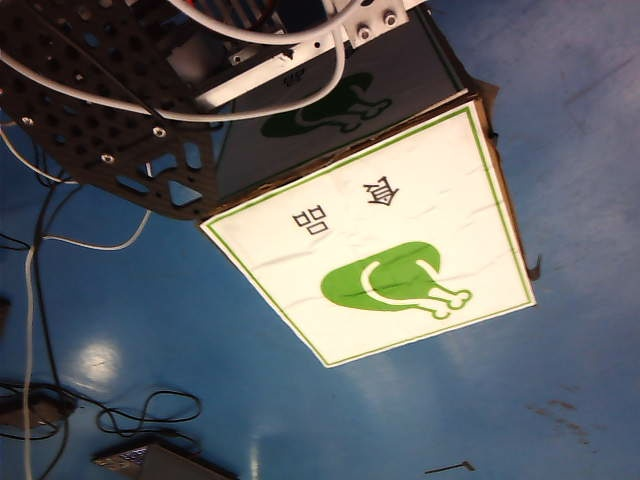Cube_food: (247, 170, 487, 323)
